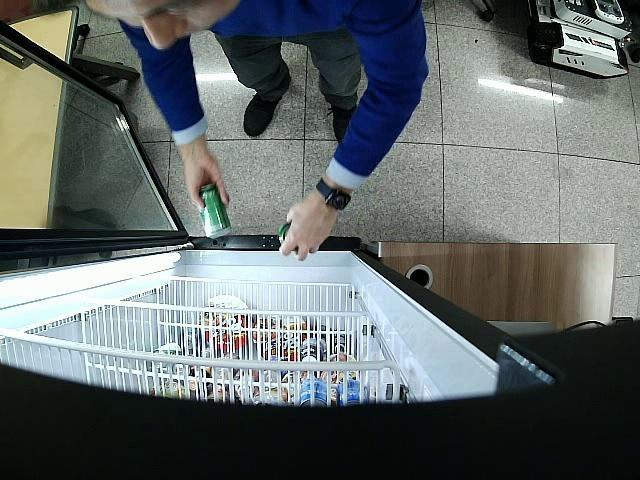12_chilsungCider: (198, 182, 232, 240), (278, 222, 292, 244)
